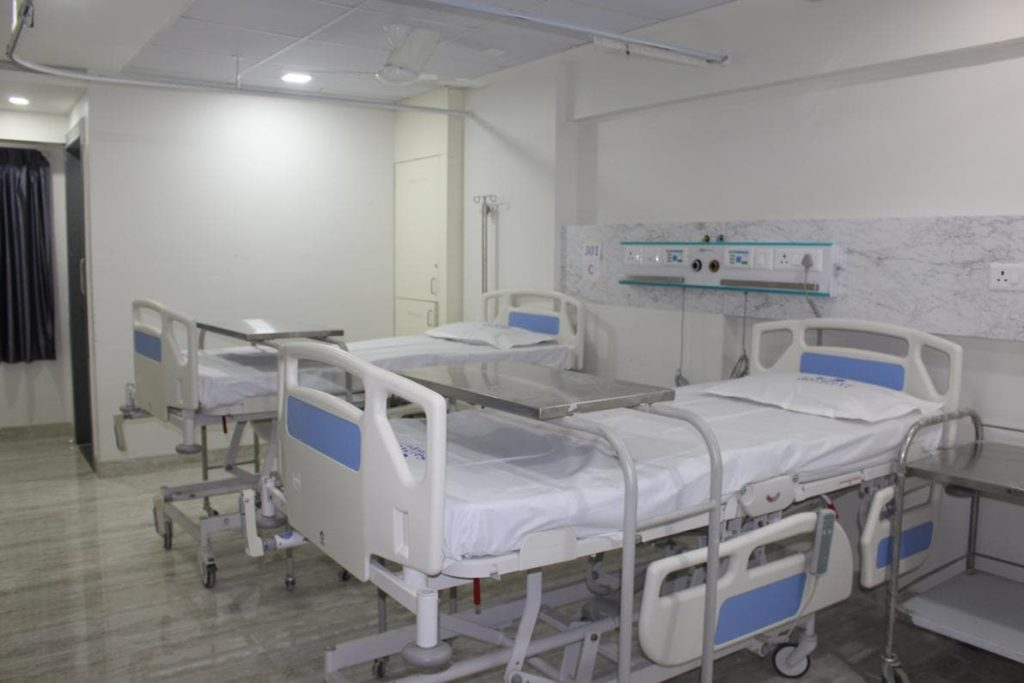hospital bed: (246, 322, 957, 537), (109, 278, 581, 372)
